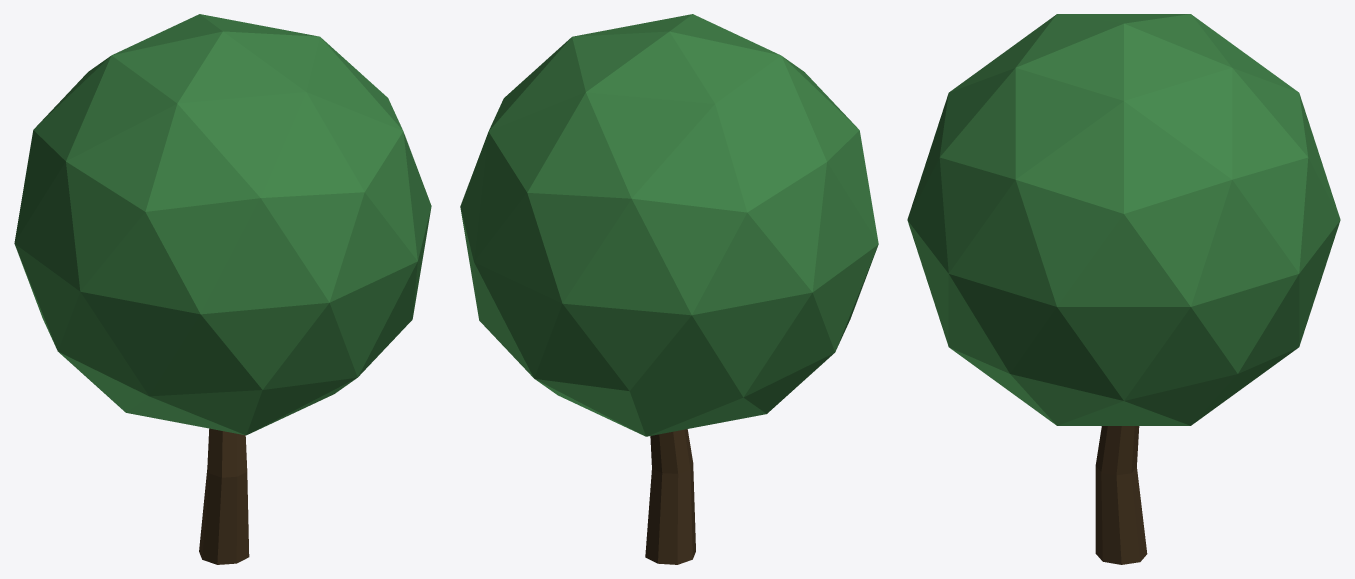
File: Tree.fbx
The picture shows the model from 3 angles, left to right: view 1: azimuth 30°, elevation 25°; view 2: azimuth 150°, elevation 25°; view 3: azimuth 270°, elevation 25°; orthographic projection.
Parts seen in each view (by area): view 1: Icosphere, Tree; view 2: Icosphere, Tree; view 3: Icosphere, Tree.
Boxes of the visible parts, bbox=[...] form: Icosphere: bbox=[14, 14, 431, 435]; Tree: bbox=[199, 428, 249, 564]; Icosphere: bbox=[460, 14, 878, 436]; Tree: bbox=[645, 429, 695, 564]; Icosphere: bbox=[907, 14, 1340, 425]; Tree: bbox=[1095, 426, 1147, 564].
Size of what is drawn, in the model's own units: 685 by 974 by 721.
